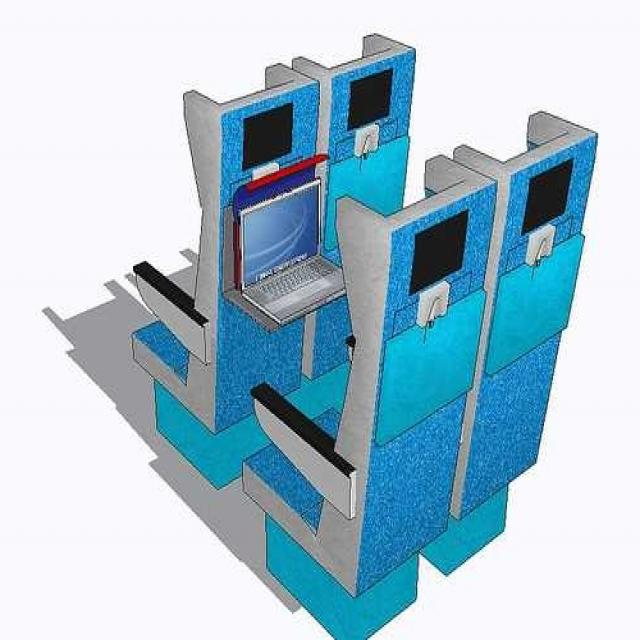laptop: (230, 188, 336, 348)
